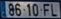0: (31, 3, 38, 16)
1: (25, 2, 31, 16)
6: (14, 2, 21, 16)
8: (7, 2, 14, 16)
F: (42, 3, 50, 17)
L: (50, 3, 57, 17)
